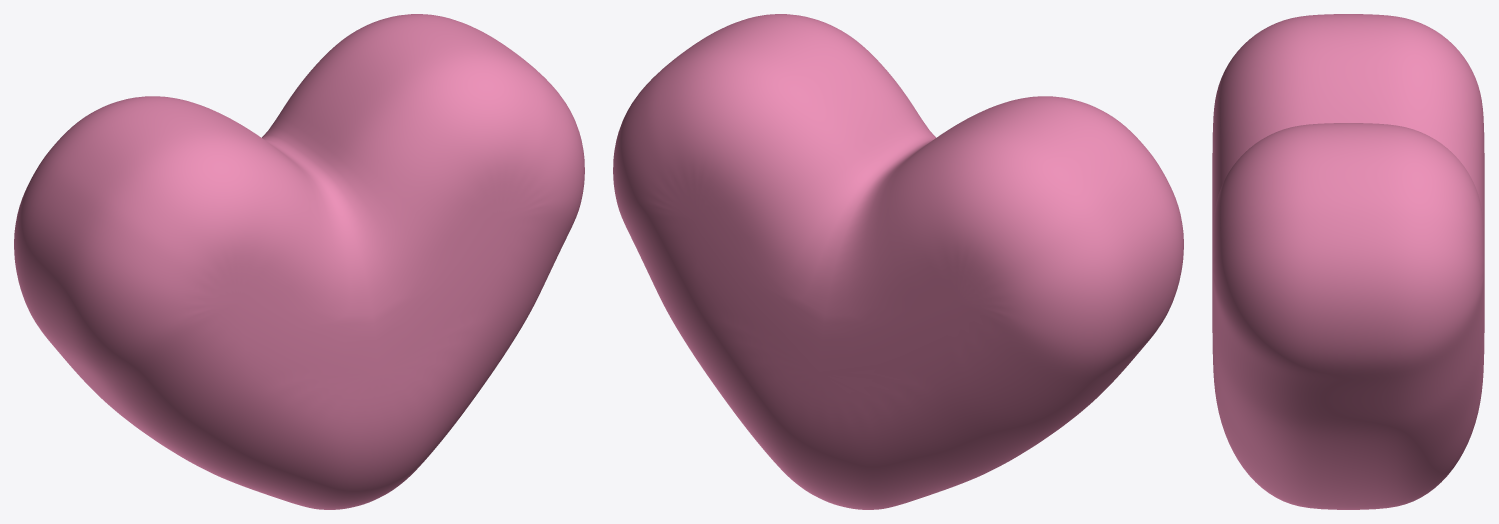
Rendered from heart.fbx.
The picture shows the model from 3 angles, left to right: view 1: azimuth 30°, elevation 25°; view 2: azimuth 150°, elevation 25°; view 3: azimuth 270°, elevation 25°; orthographic projection. The views are drawn at different scales.
Parts seen in each view (by area): view 1: Cube; view 2: Cube; view 3: Cube.
Boxes of the visible parts, x1,y1,x2,y2 form: Cube: (14, 14, 584, 509); Cube: (613, 14, 1183, 509); Cube: (1212, 14, 1484, 509).
Size of the model in its own units: 423 by 339 by 200.
